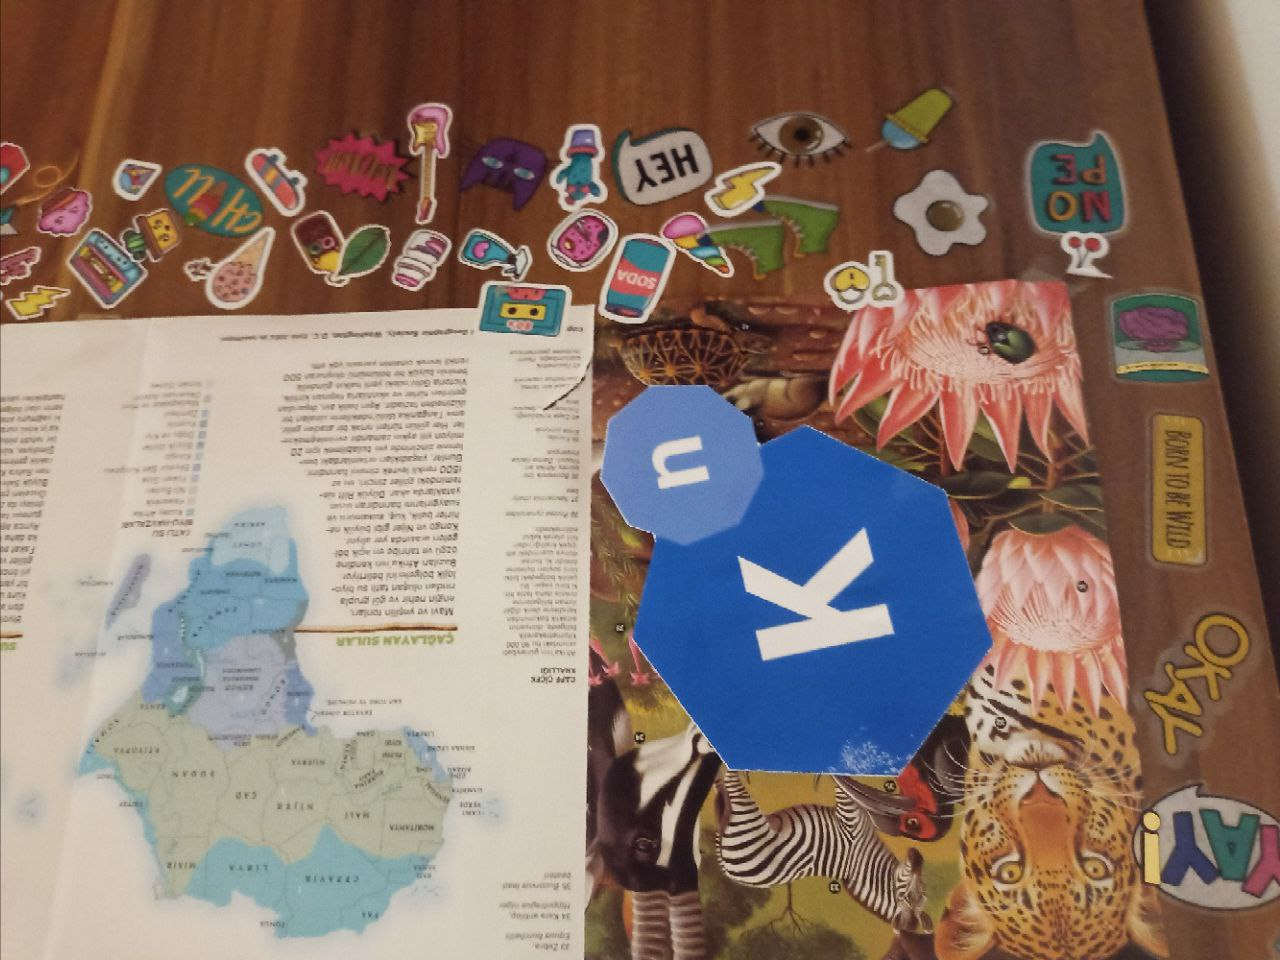knative: (601, 383, 994, 779)
